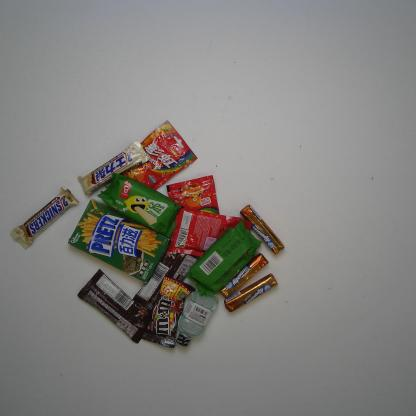Candy: (124, 118, 200, 194), (165, 205, 253, 256), (162, 173, 223, 220), (237, 203, 286, 256), (222, 273, 281, 313), (216, 254, 270, 296)
Chocolate: (76, 266, 153, 346), (132, 245, 201, 317), (75, 140, 150, 201), (8, 186, 79, 250), (140, 274, 198, 350)
Dessert: (65, 195, 171, 285), (181, 218, 264, 297), (98, 171, 183, 240)
Personal Hygiene: (171, 287, 219, 348)
